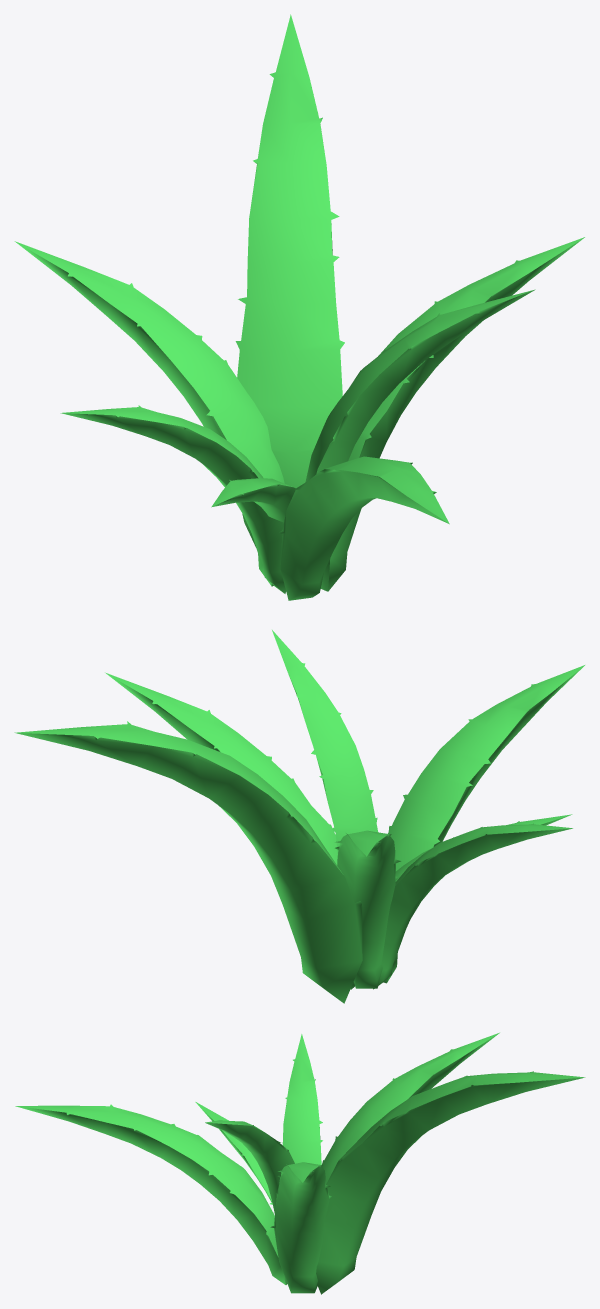
Rendered from alove.fbx.
3 renders of one model, top to bottom at view 1: azimuth 30°, elevation 25°; view 2: azimuth 150°, elevation 25°; view 3: azimuth 270°, elevation 25°, orthographic. The views are drawn at different scales.
Parts seen in each view (by area): view 1: Aloe.; view 2: Aloe.; view 3: Aloe..
Boxes of the visible parts, x1,y1,x2,y2 form: Aloe.: (14,14,584,600); Aloe.: (14,630,584,1003); Aloe.: (15,1032,585,1294).
Bounding box in the file's own units: 533 × 373 × 703.
